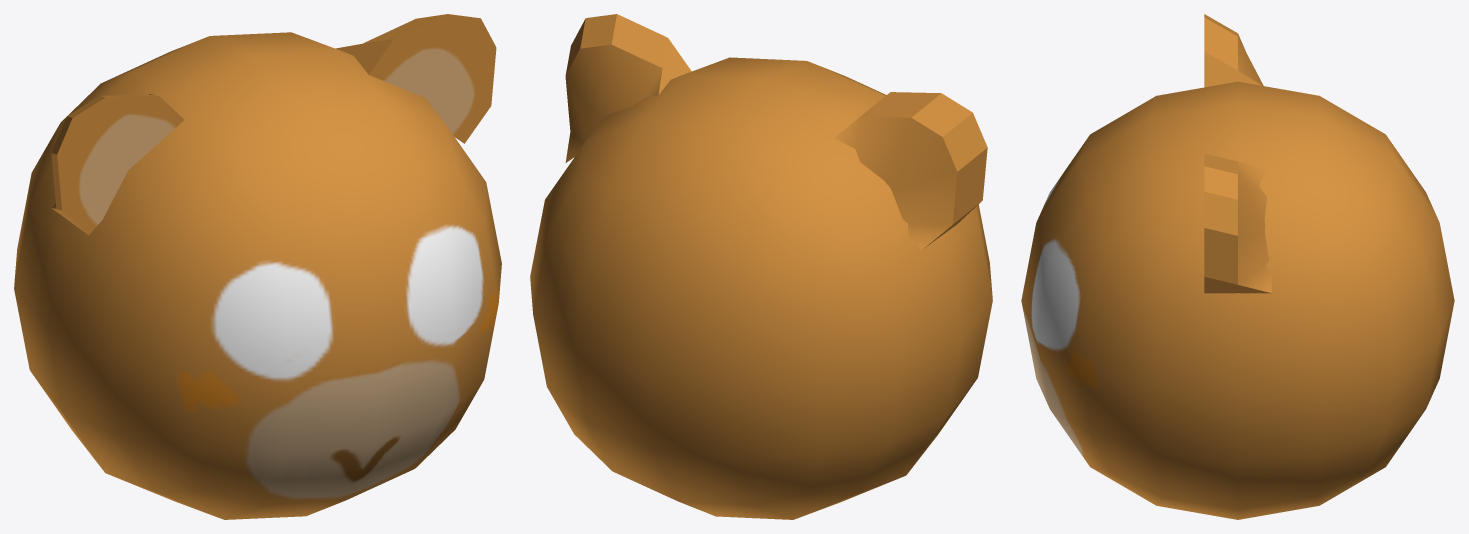
File: Head.obj
3 renders of one model, left to right at view 1: azimuth 30°, elevation 25°; view 2: azimuth 150°, elevation 25°; view 3: azimuth 270°, elevation 25°, orthographic. The views are drawn at different scales.
Visible parts, largest first — view 1: Head; view 2: Head; view 3: Head.
Part boxes in pixels (x1,y1,x2,y2): Head: (14, 14, 501, 519); Head: (530, 14, 992, 519); Head: (1021, 14, 1454, 519).
Bounding box in the file's own units: 0.3319 × 0.3278 × 0.3176.
1 material, 1 textured.
